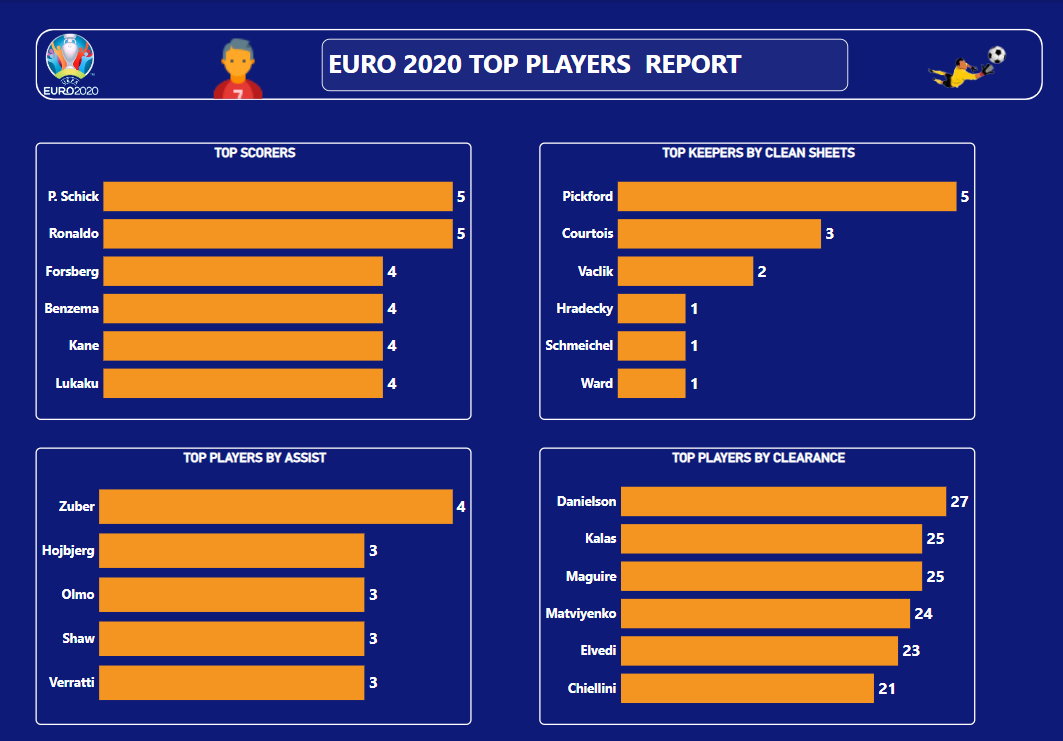

The dashboard page shown, as its layout file describes it:
{"tool":"powerbi","page":{"name":" PLAYERS","canvas":[2000,1400],"ordinal":1},"visuals":[{"type":"shape","box":[70.4,54,1890.8,133.7],"z":0},{"type":"clusteredBarChart","title":"TOP SCORERS","fields":{"Y":["Sum(TOP SCORERS.Goals)"],"Category":["TOP SCORERS.Player"]},"box":[70.4,267.4,818.7,520.8],"z":1000},{"type":"clusteredBarChart","title":"TOP  KEEPERS BY  CLEAN SHEETS","fields":{"Y":["Sum(KEEPERS STATS.Clean Sheet)"],"Category":["KEEPERS STATS.Keeper"]},"box":[1015.8,267.4,818.7,520.8],"z":2000},{"type":"clusteredBarChart","title":"TOP PLAYERS BY ASSIST","fields":{"Y":["Sum(ASSIST.Assists)"],"Category":["ASSIST.Player"]},"box":[70.4,839.8,818.7,520.8],"z":3000},{"type":"clusteredBarChart","title":"TOP PLAYERS BY CLEARANCE ","fields":{"Y":["Sum(TACKLES.Clearance )"],"Category":["TACKLES.Player"]},"box":[1015.8,839.8,818.7,520.8],"z":4000},{"type":"image","box":[65.7,56.3,143.1,131.4],"z":5000},{"type":"textbox","box":[607.6,72.7,987.6,98.5],"z":6000},{"type":"image","box":[1731.2,61,187.7,119.6],"z":7000},{"type":"image","box":[377.7,0,145.4,258],"z":8000}]}

Visuals, with their boxes in screenshot pixels (x1, y1, x2, y2), scaled from the page's 2000x1400 canvas onto the 1063x741 screenshot:
shape: bbox=[37, 29, 1042, 99]
"TOP SCORERS" clusteredBarChart: bbox=[37, 142, 473, 417]
"TOP  KEEPERS BY  CLEAN SHEETS" clusteredBarChart: bbox=[540, 142, 975, 417]
"TOP PLAYERS BY ASSIST" clusteredBarChart: bbox=[37, 444, 473, 720]
"TOP PLAYERS BY CLEARANCE " clusteredBarChart: bbox=[540, 444, 975, 720]
image: bbox=[35, 30, 111, 99]
textbox: bbox=[323, 38, 848, 91]
image: bbox=[920, 32, 1020, 96]
image: bbox=[201, 0, 278, 137]
